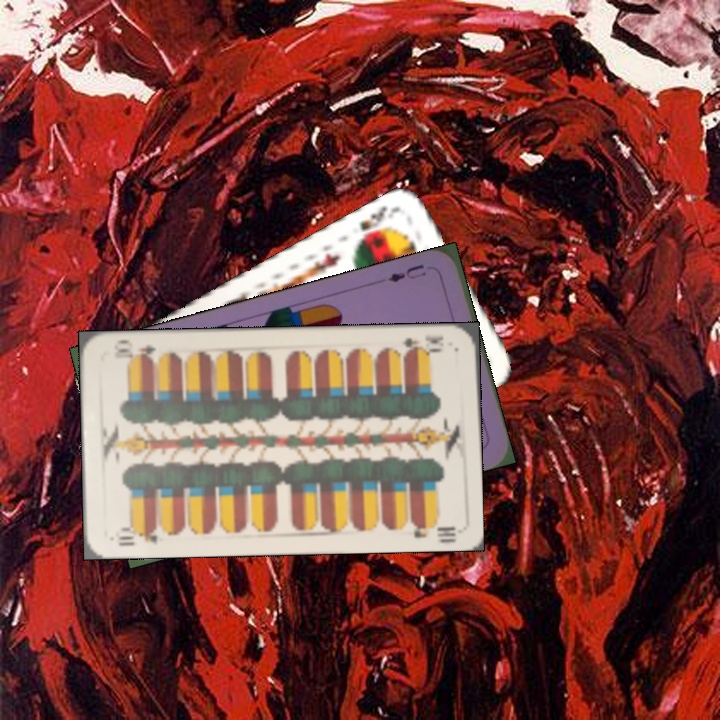E10: (394, 330, 446, 358), (114, 522, 160, 548)
EU: (384, 259, 429, 285)
SK: (354, 202, 403, 247)
